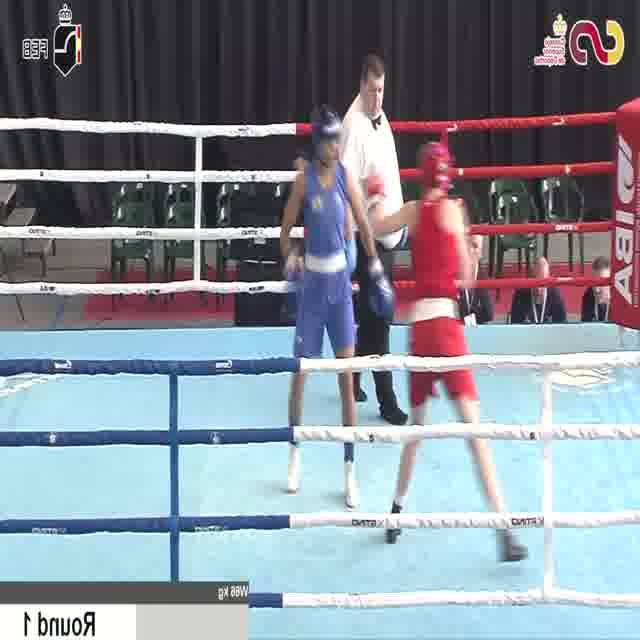blue-player: (276, 104, 398, 510)
red-player: (366, 136, 532, 565)
referee: (335, 49, 411, 430)
